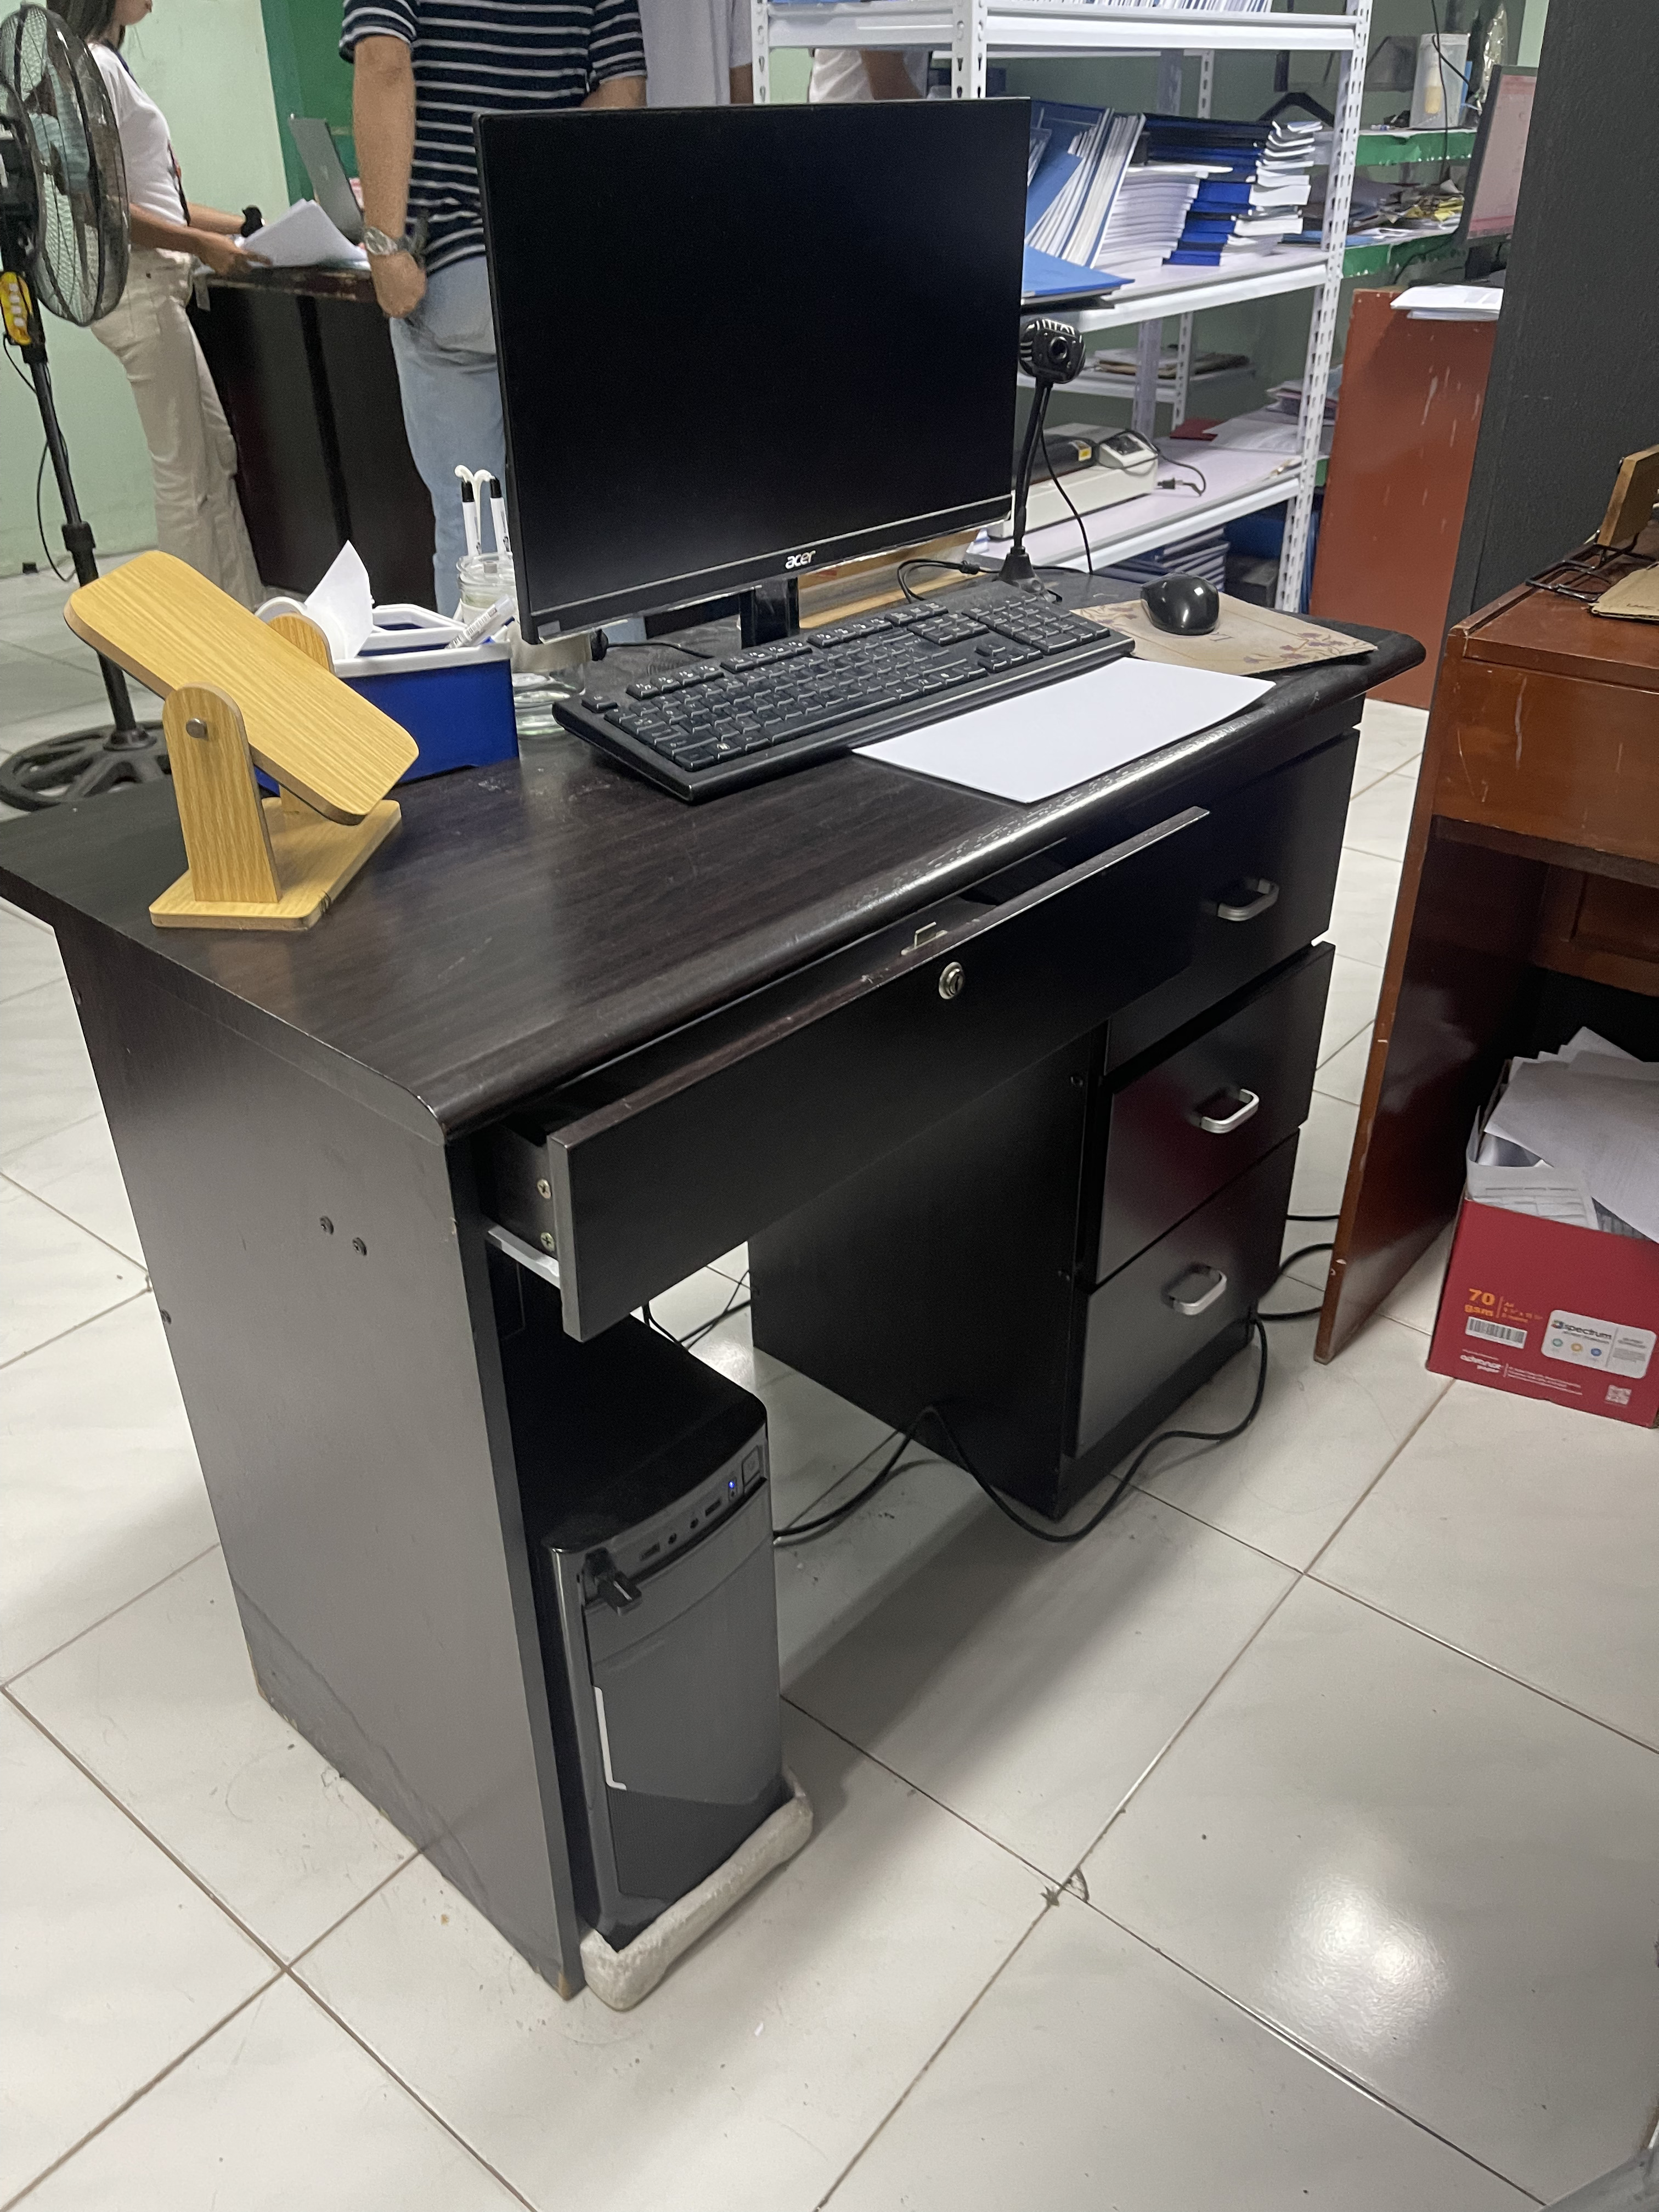table1: (7, 691, 1455, 2017)
